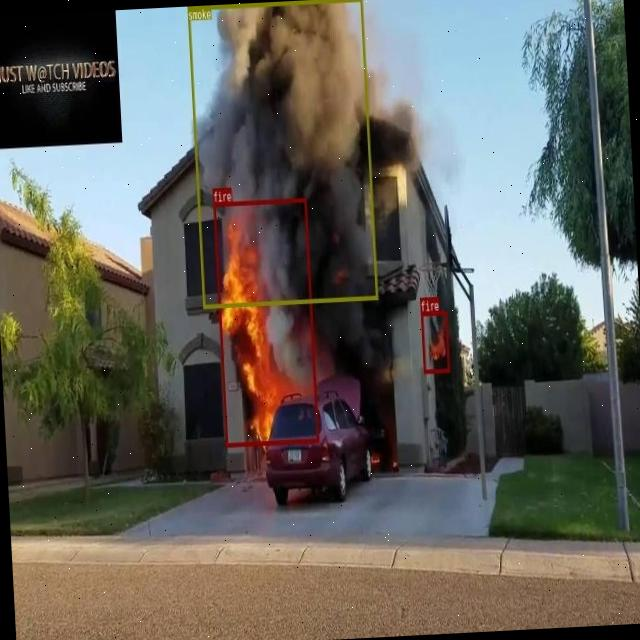fire: (212, 198, 318, 448), (421, 310, 450, 372)
smoke: (187, 0, 378, 308)
